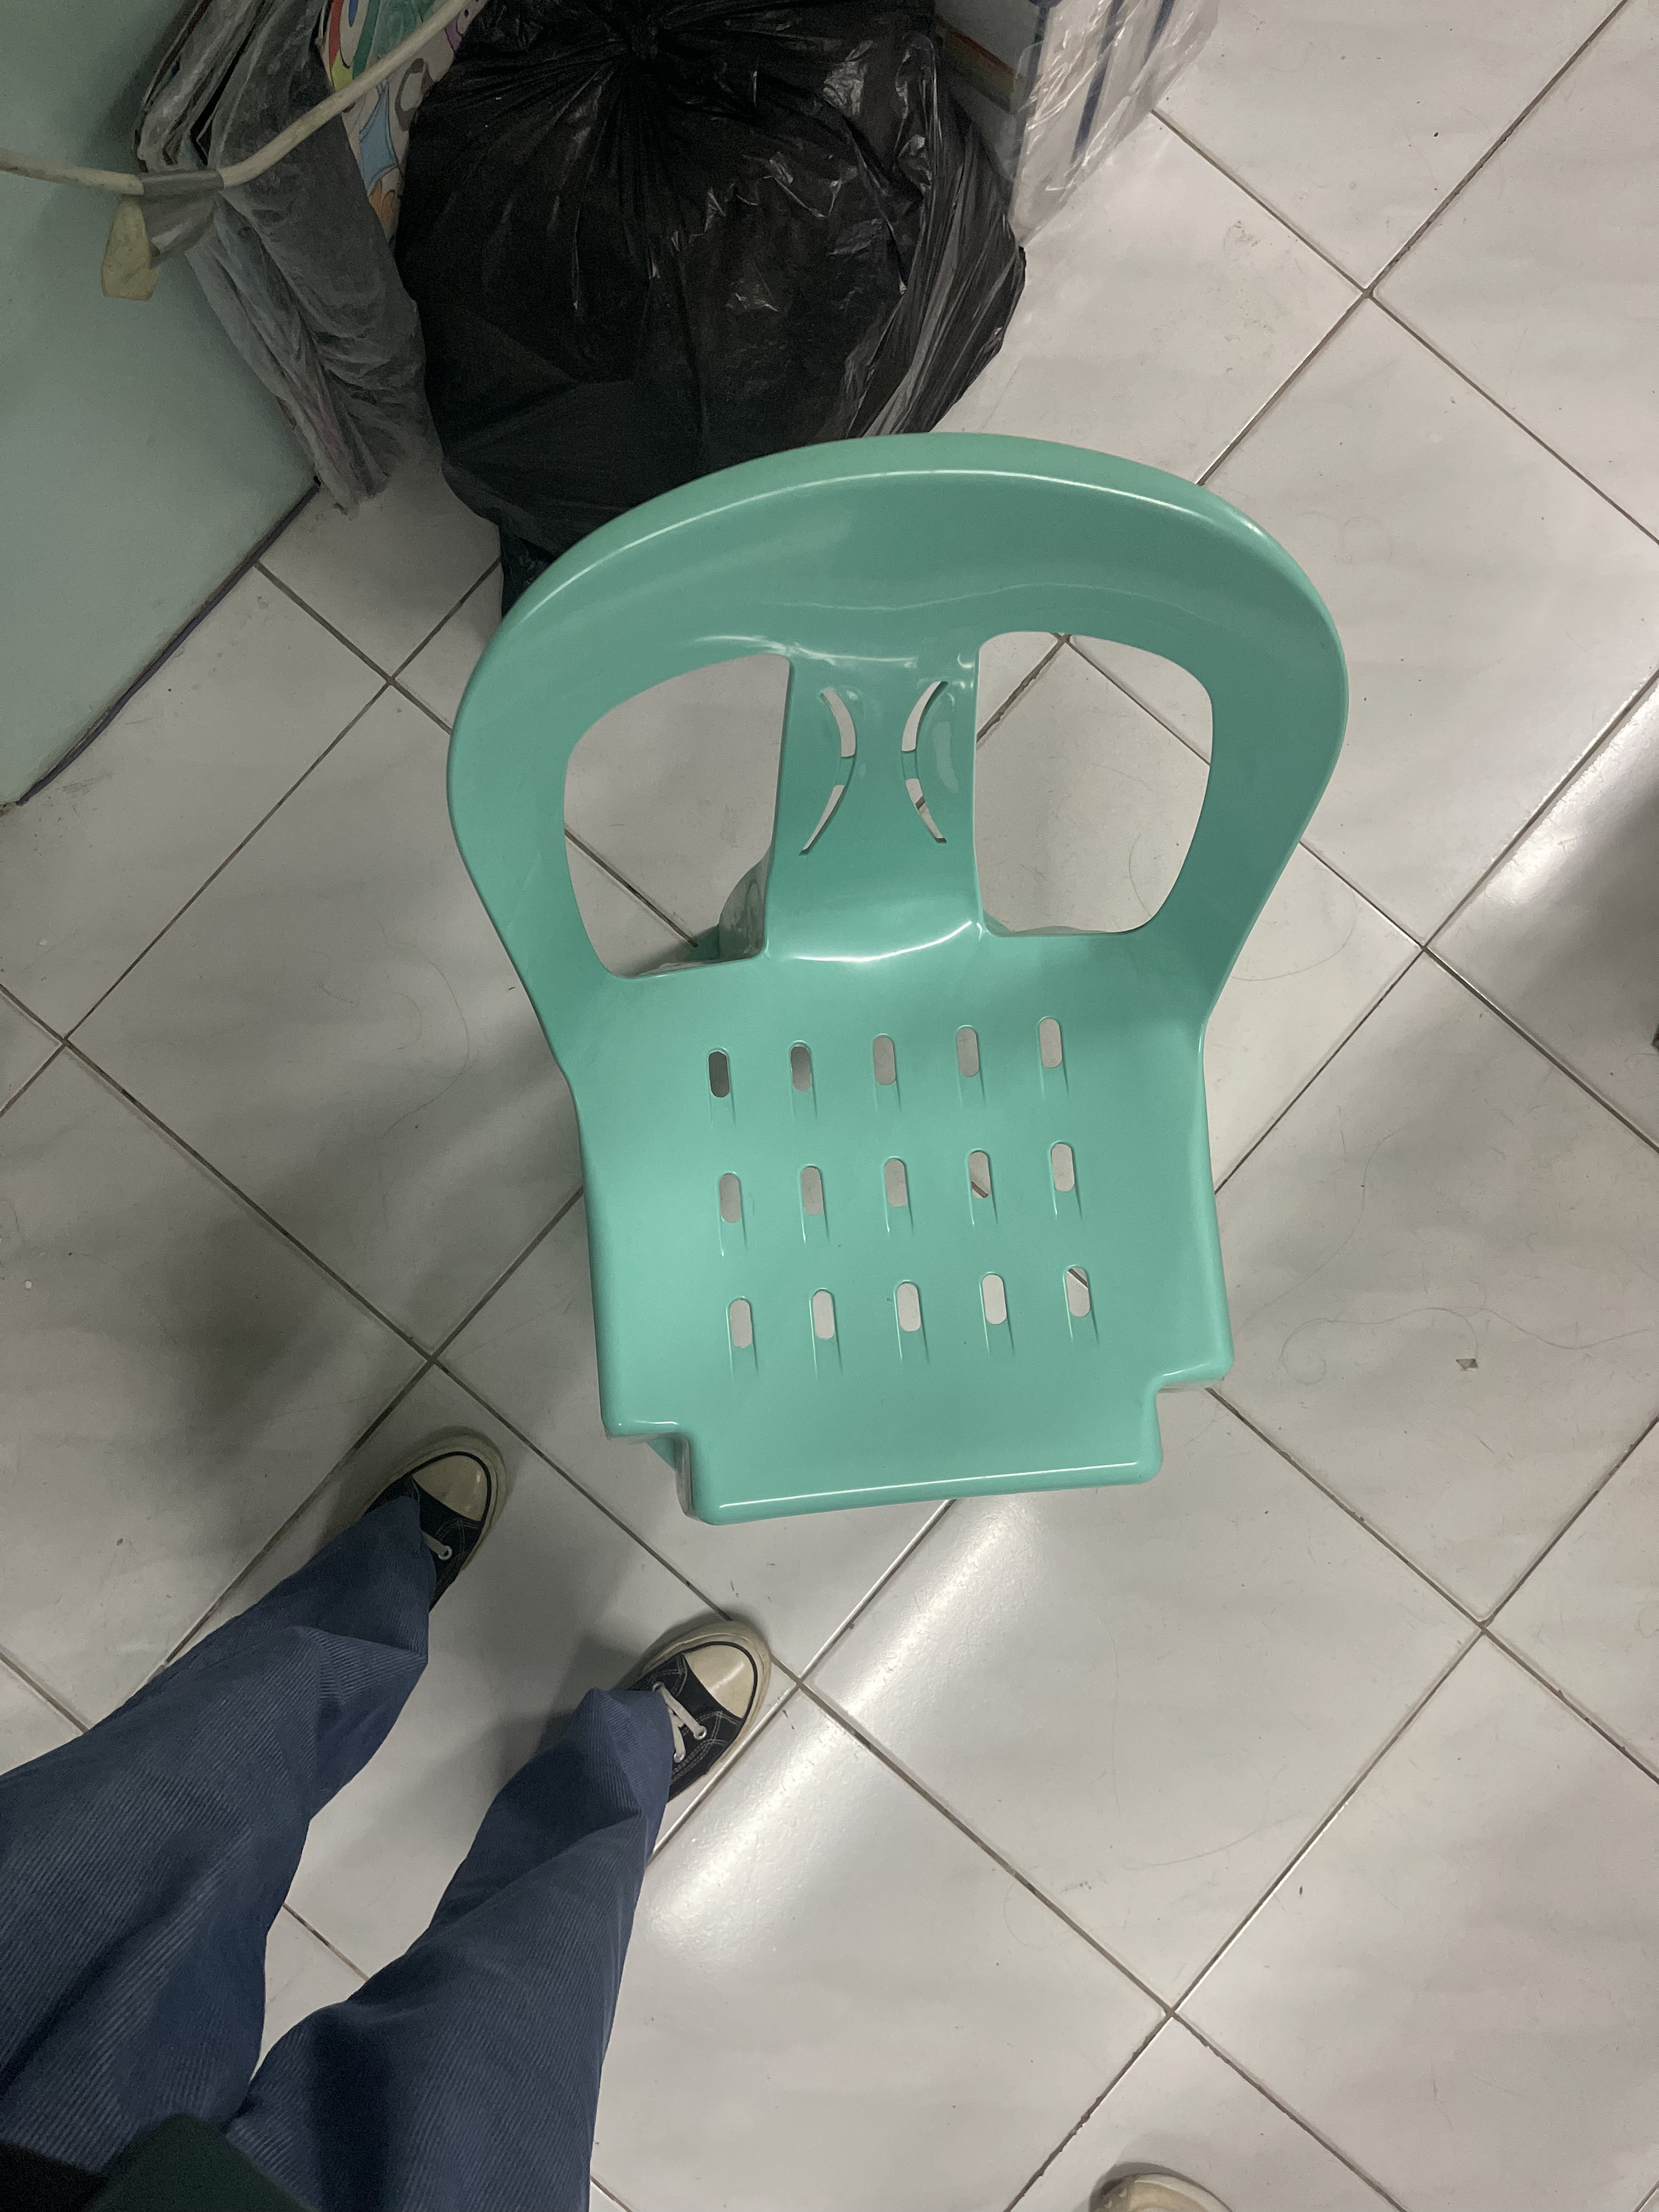chair2: (437, 415, 1358, 1561)
